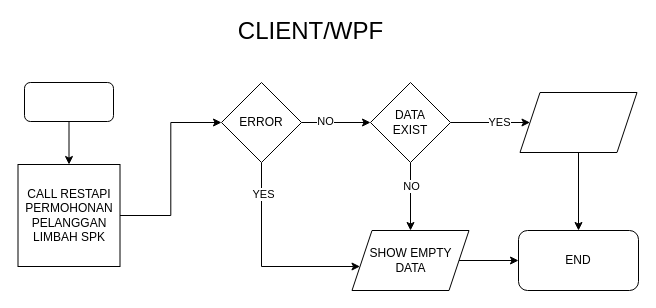
Some shapes in this 656 by 308 pixel diagram are drawn without their labels. The centre of each missing label's shape, as x and y in pixels:
"SHOW DATA" goes at [578,122].
"START" goes at [69,102].
